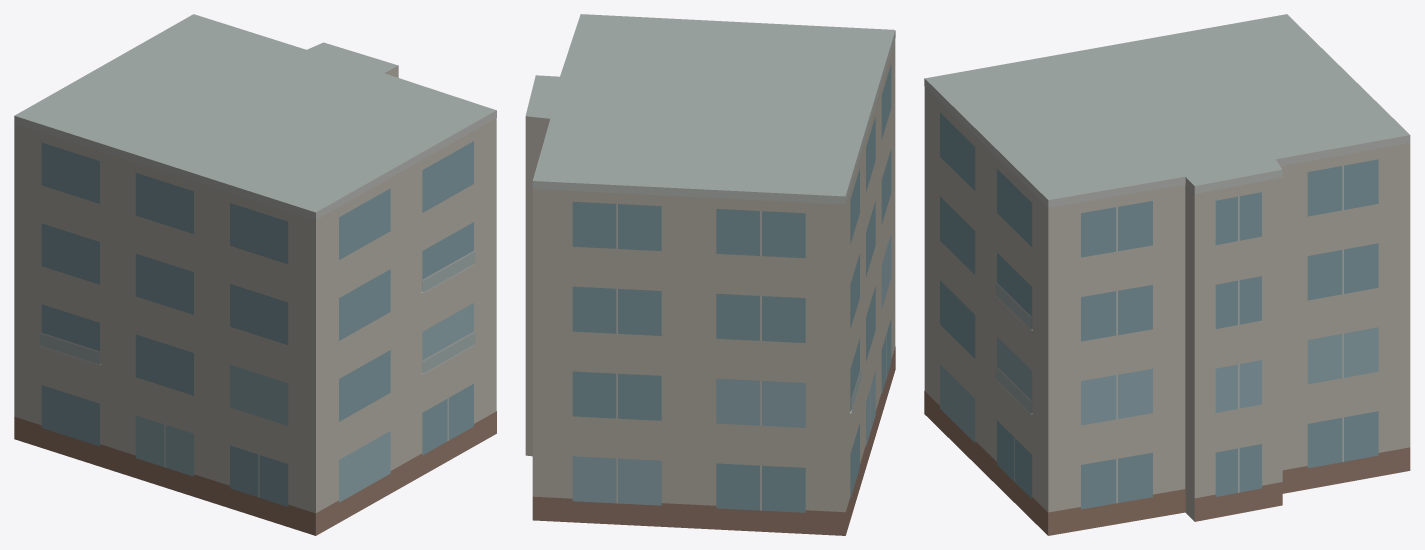
Rendered from survey-upis-32953238.glb.
3 views of the same model, side by side, from view 1: azimuth 30°, elevation 25°; view 2: azimuth 150°, elevation 25°; view 3: azimuth 270°, elevation 25° (orthographic). The views are drawn at different scales.
Parts seen in each view (by area): view 1: survey-upis-32953238.tmp; view 2: survey-upis-32953238.tmp; view 3: survey-upis-32953238.tmp.
Part boxes in pixels (x1,y1,x2,y2): survey-upis-32953238.tmp: [14, 14, 496, 535]; survey-upis-32953238.tmp: [525, 14, 895, 535]; survey-upis-32953238.tmp: [924, 14, 1410, 535].
Size of the model in its own units: 12.38 by 10.4 by 13.65.
